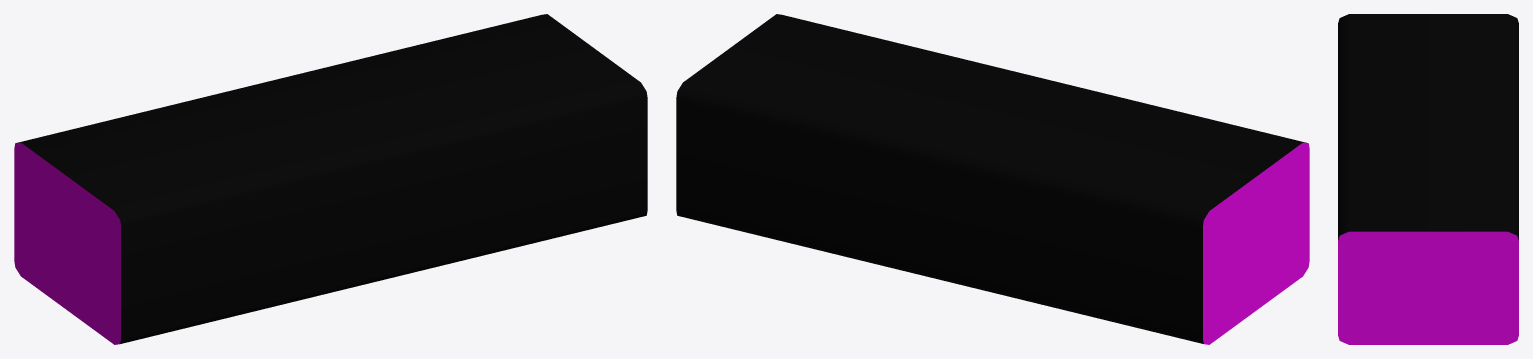
The model's file is SM_JengaBlock.fbx.
3 renders of one model, left to right at view 1: azimuth 30°, elevation 25°; view 2: azimuth 150°, elevation 25°; view 3: azimuth 270°, elevation 25°, orthographic. The views are drawn at different scales.
Visible parts, largest first — view 1: SM_JengaBlock; view 2: SM_JengaBlock; view 3: SM_JengaBlock.
Boxes of the visible parts, x1=… form: SM_JengaBlock: x1=14, y1=14, x2=647, y2=344; SM_JengaBlock: x1=676, y1=14, x2=1309, y2=344; SM_JengaBlock: x1=1338, y1=14, x2=1518, y2=344.
Bounding box in the file's own units: 1791 × 435 × 629.
